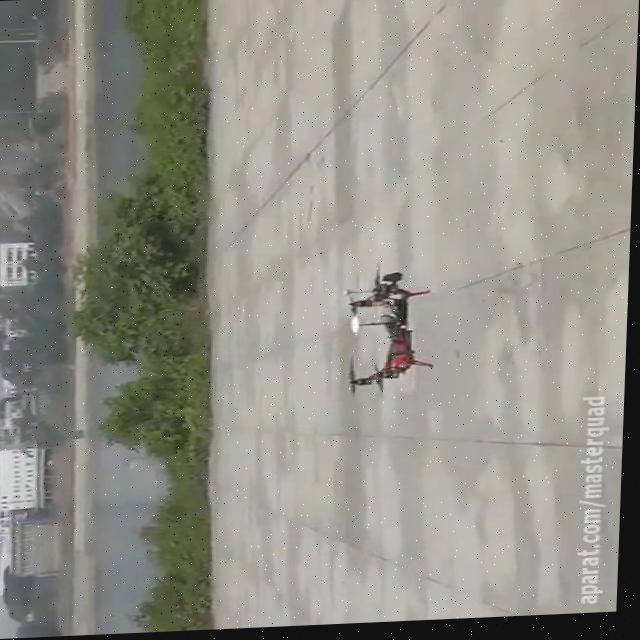drone: (334, 262, 443, 410)
